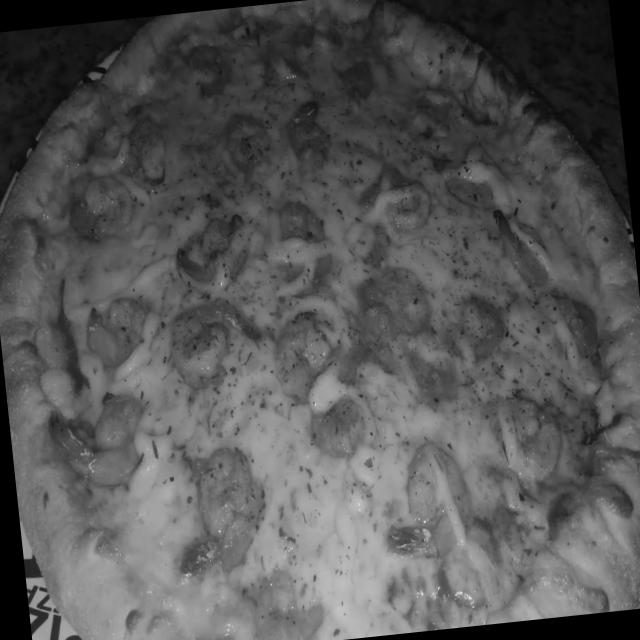camarao: (377, 428, 478, 575), (171, 439, 270, 578), (42, 378, 155, 494), (162, 294, 265, 400), (496, 376, 566, 494), (266, 318, 337, 412), (75, 294, 152, 374), (59, 170, 138, 242), (218, 99, 276, 194)
pizza: (0, 0, 639, 639)
